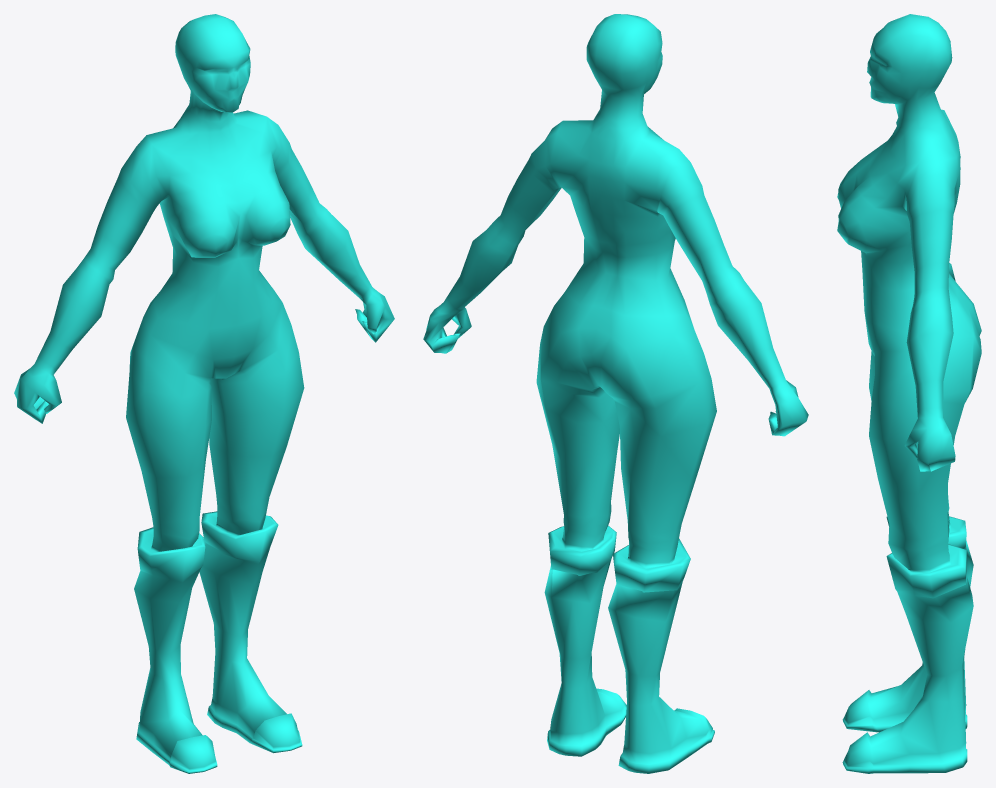
The picture shows the model from 3 angles, left to right: view 1: azimuth 30°, elevation 25°; view 2: azimuth 150°, elevation 25°; view 3: azimuth 270°, elevation 25°; orthographic projection.
Visible parts, largest first — view 1: pj; view 2: pj; view 3: pj.
Boxes of the visible parts, bbox=[...] form: pj: bbox=[14, 14, 394, 773]; pj: bbox=[423, 14, 808, 773]; pj: bbox=[837, 14, 981, 773].
Size of the model in its own units: 1.16 by 2.12 by 0.3823.
